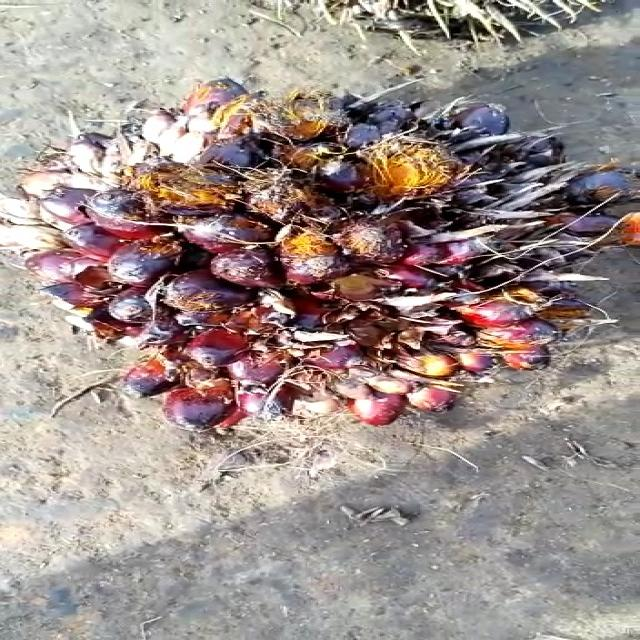palm oil: (41, 83, 640, 439)
